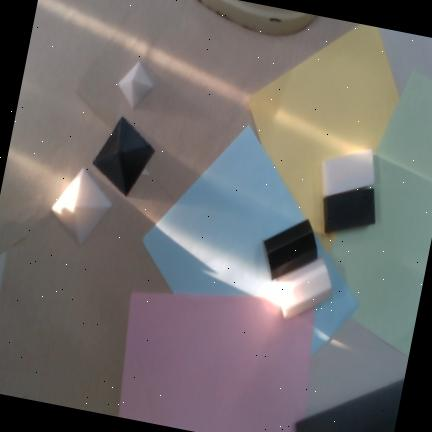Paralelepipedo: (321, 148, 374, 197), (323, 188, 375, 234)
Piramide: (93, 116, 155, 197), (50, 167, 113, 245), (117, 61, 155, 110)
Prisma_hexagonal: (261, 219, 318, 283), (276, 257, 332, 320)
